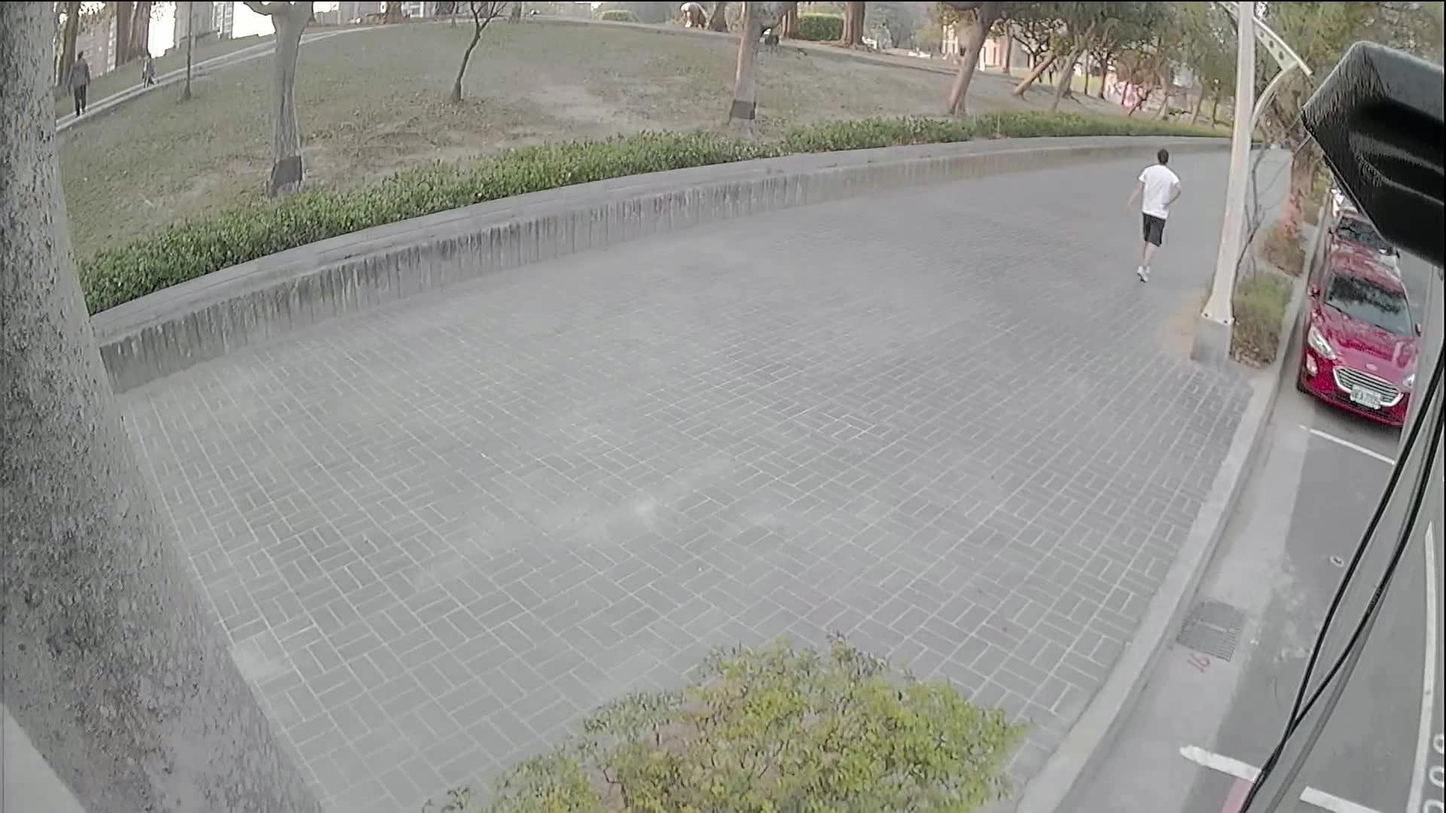person: (1130, 148, 1179, 282)
